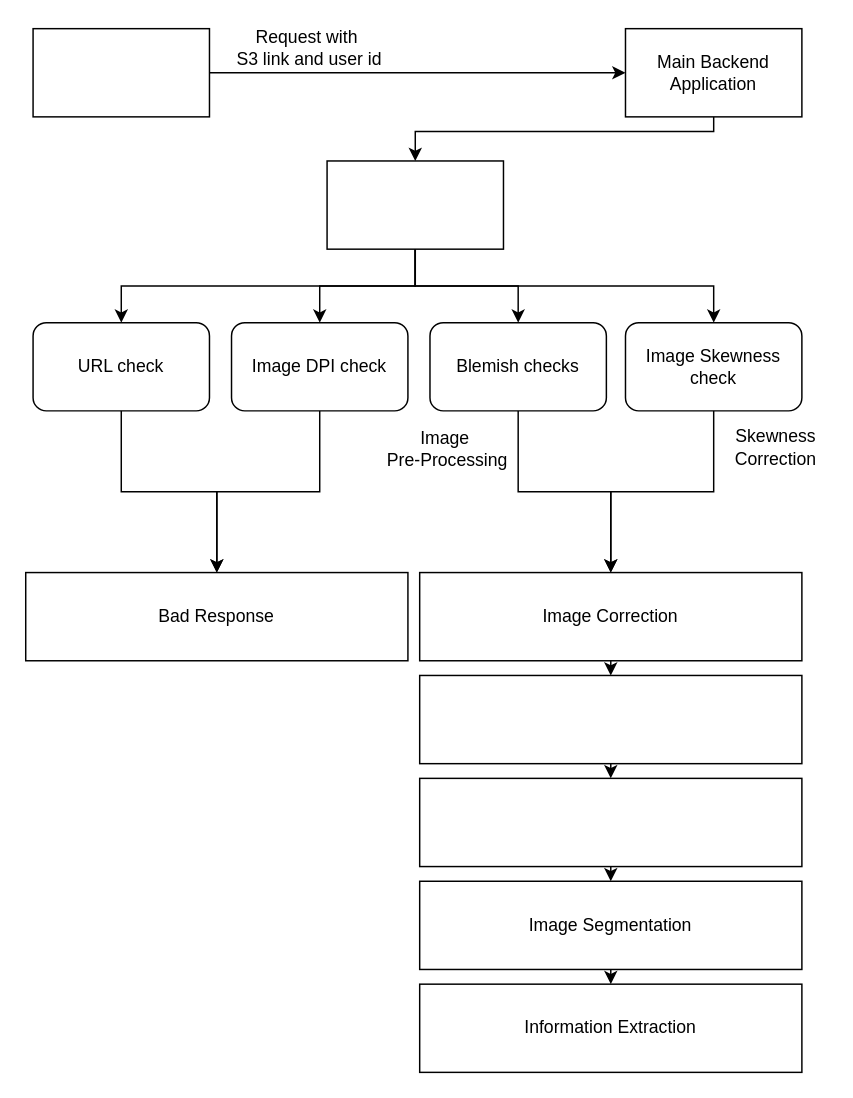
Some shapes in this 853 by 1098 pixel diagram are drawn without their labels. Each missing label, with the centre of its shape:
Client App deployed on AWS: (120,72)
Image Dissolution: (610,719)
Image Processing: (610,822)
Proprietary Checks: (414,204)
